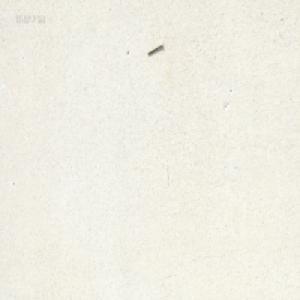Bolt: (147, 44, 163, 56)
